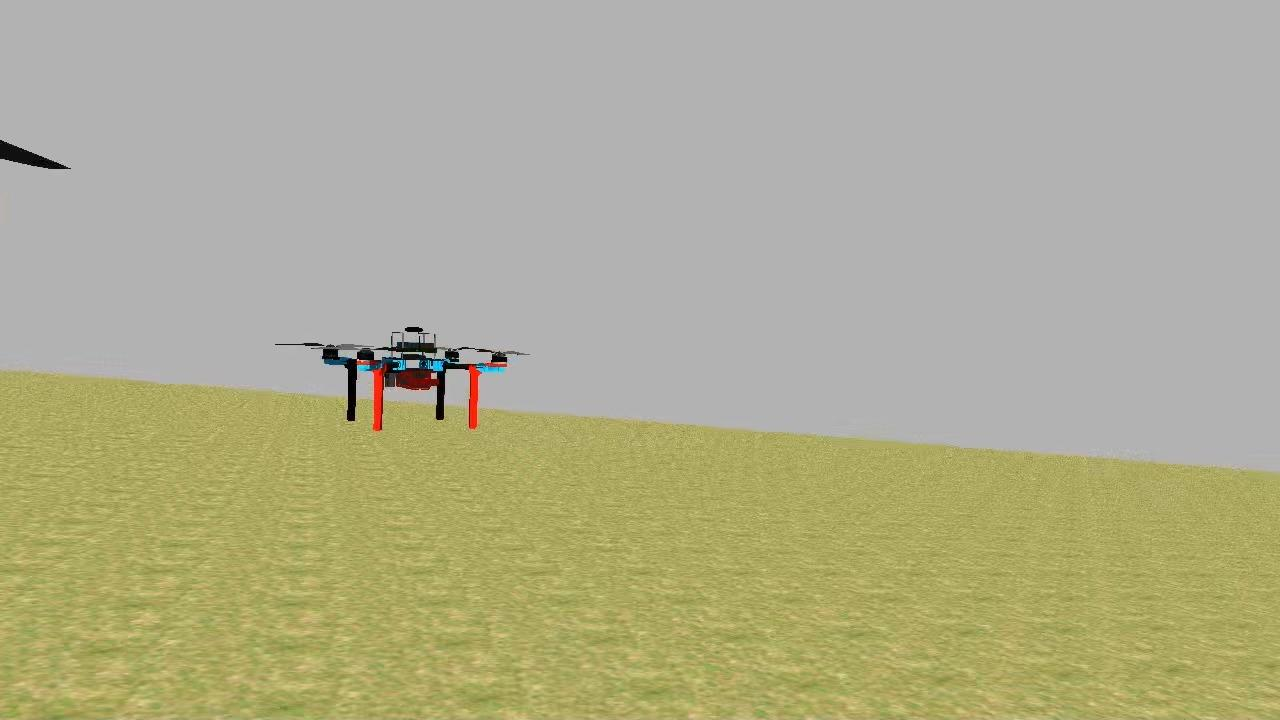UAV: (320, 318, 514, 436)
